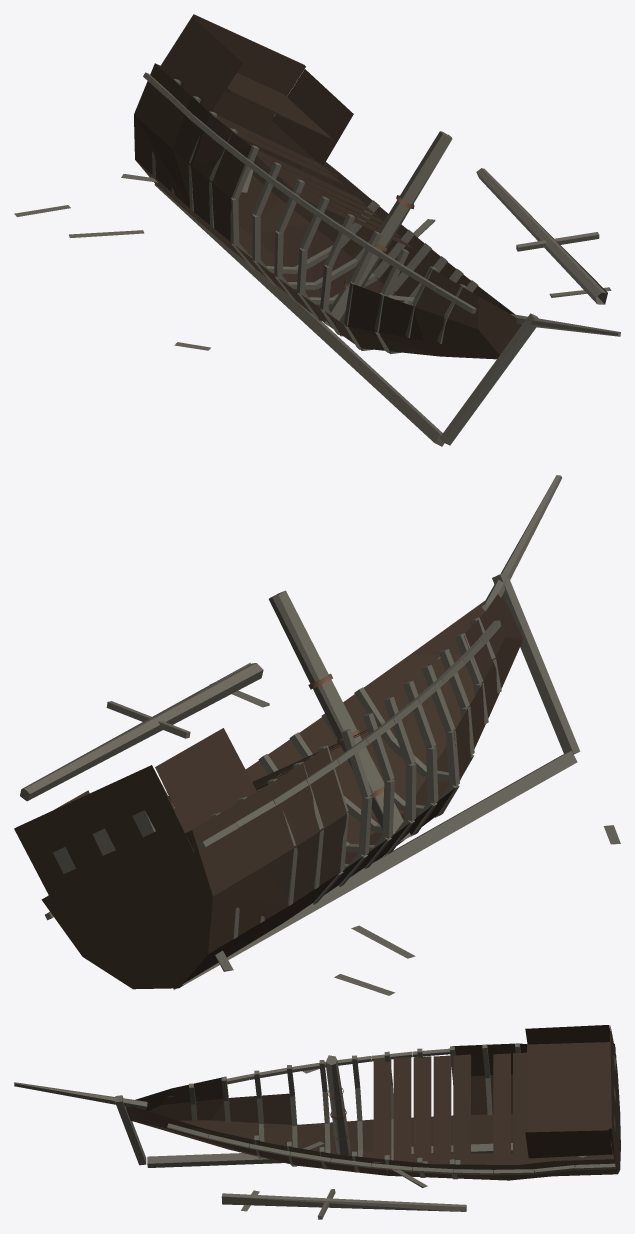
File: shipwreck-lod1.glb
3 views of the same model, one above another, from view 1: azimuth 30°, elevation 25°; view 2: azimuth 150°, elevation 25°; view 3: azimuth 270°, elevation 25° (orthographic). The views are drawn at different scales.
Parts seen in each view (by area): view 1: shipwreck.001; view 2: shipwreck.001; view 3: shipwreck.001.
Boxes of the visible parts, left/top/right/bottom form: shipwreck.001: left=14, top=14, right=620, bottom=446; shipwreck.001: left=14, top=475, right=620, bottom=995; shipwreck.001: left=14, top=1025, right=620, bottom=1219.
Size of the model in its own units: 17.24 by 8.04 by 27.37.
